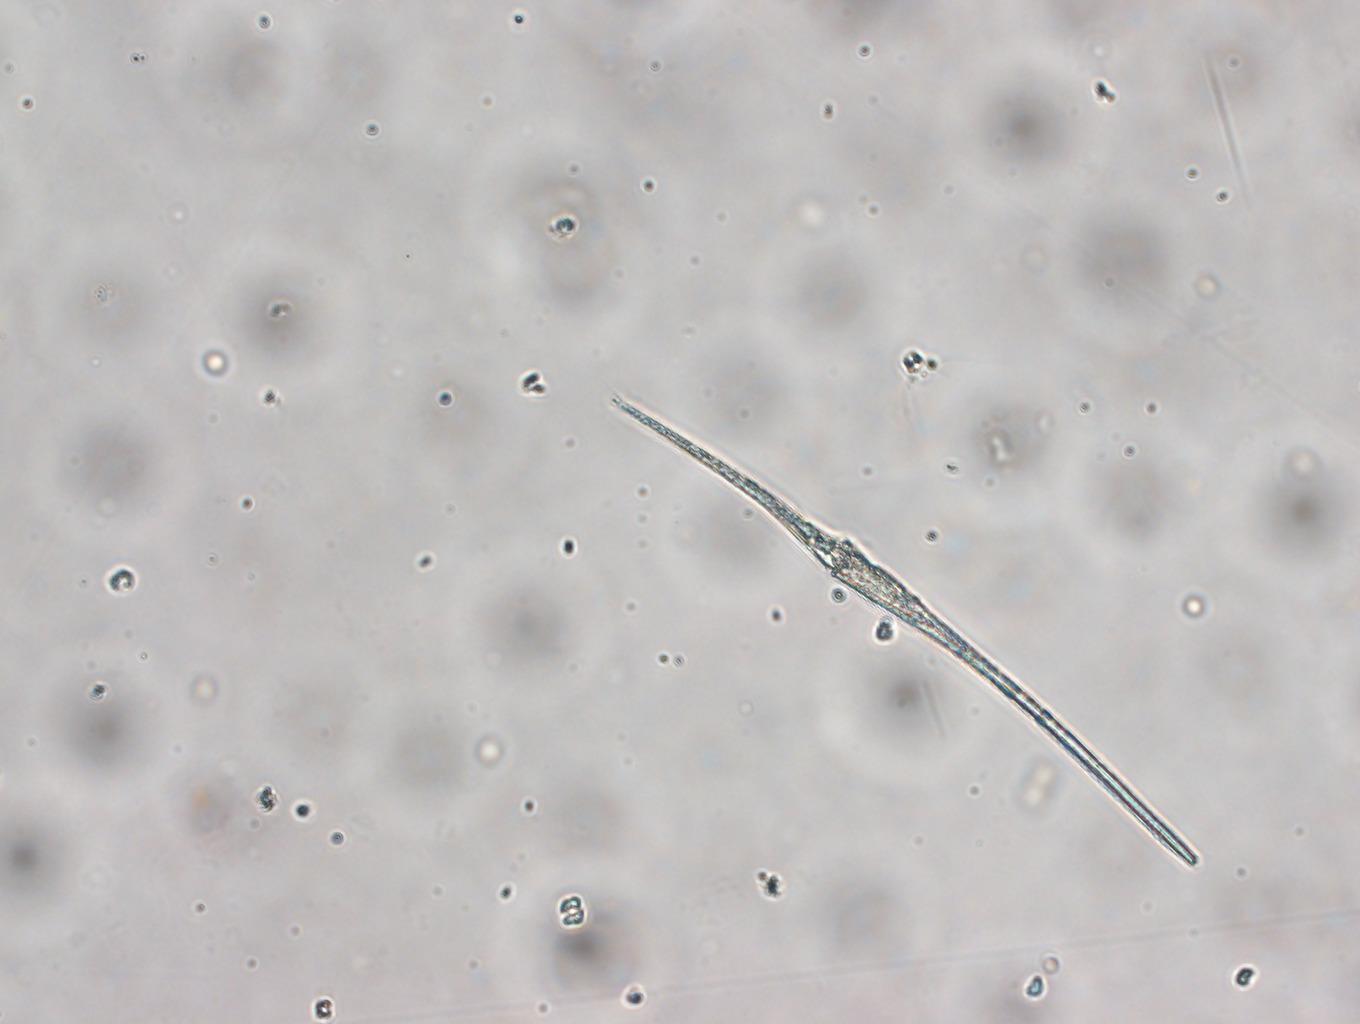ceratium fusus: (605, 390, 1199, 870)
